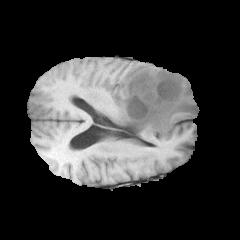glioma: (110, 67, 198, 137)
